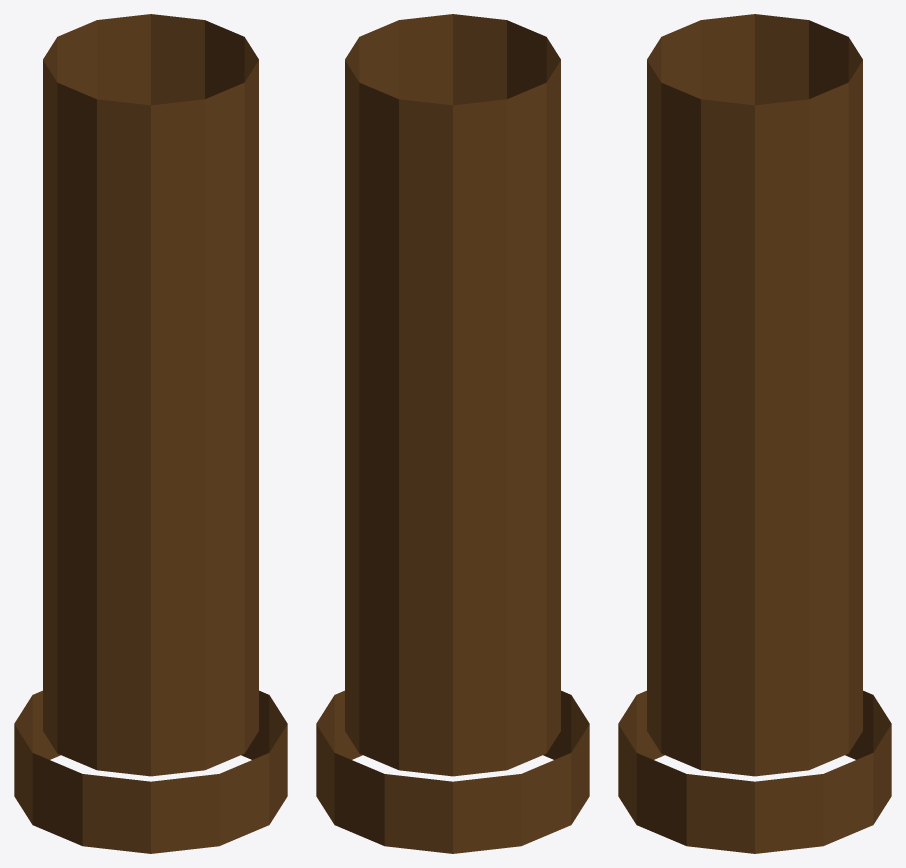
File: word_spawner_tube.glb
3 renders of one model, left to right at view 1: azimuth 30°, elevation 25°; view 2: azimuth 150°, elevation 25°; view 3: azimuth 270°, elevation 25°, orthographic.
Visible parts, largest first — view 1: Cylinder, Cylinder.001; view 2: Cylinder, Cylinder.001; view 3: Cylinder, Cylinder.001.
Boxes of the visible parts, x1,y1,x2,y2 form: Cylinder: (43, 14, 258, 776); Cylinder.001: (14, 690, 287, 853); Cylinder: (345, 14, 560, 776); Cylinder.001: (316, 690, 589, 853); Cylinder: (647, 14, 862, 776); Cylinder.001: (618, 690, 891, 853).
Size of the model in its own units: 2.53 by 7.51 by 2.53.
